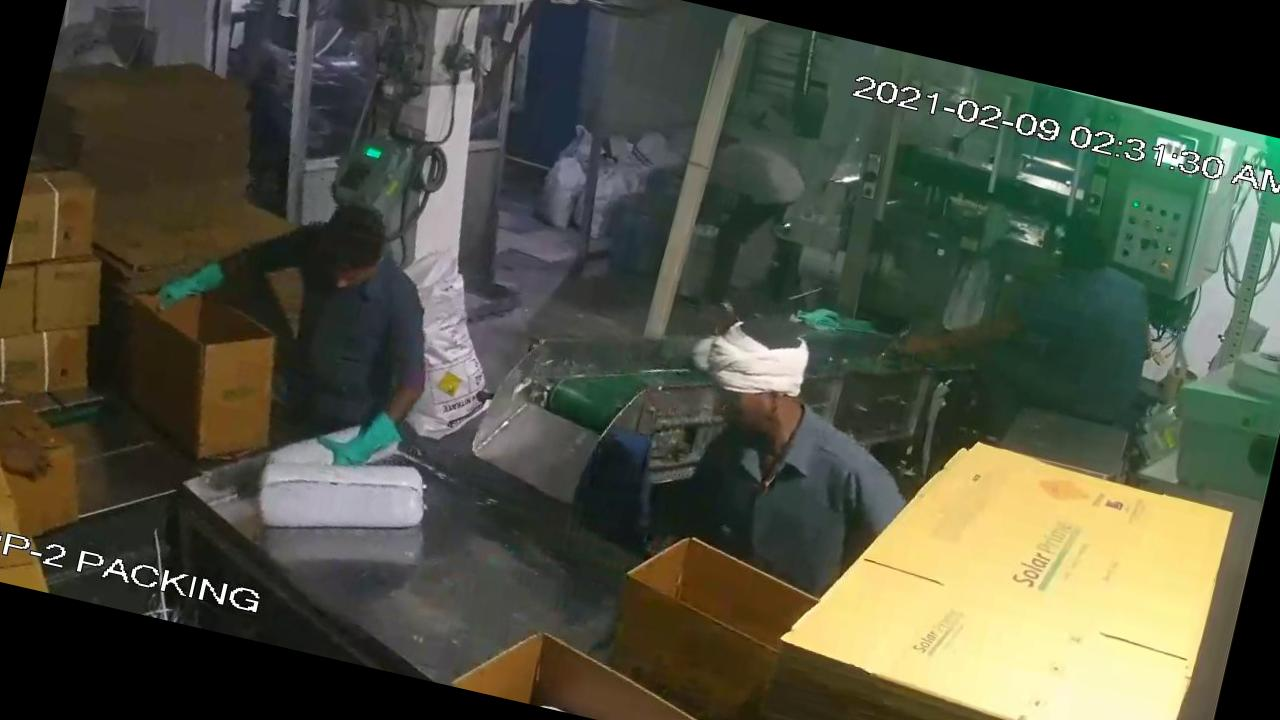Gloves: (284, 368, 428, 502), (140, 230, 250, 340)
No-gloves: (870, 260, 1039, 393), (0, 408, 69, 504)
